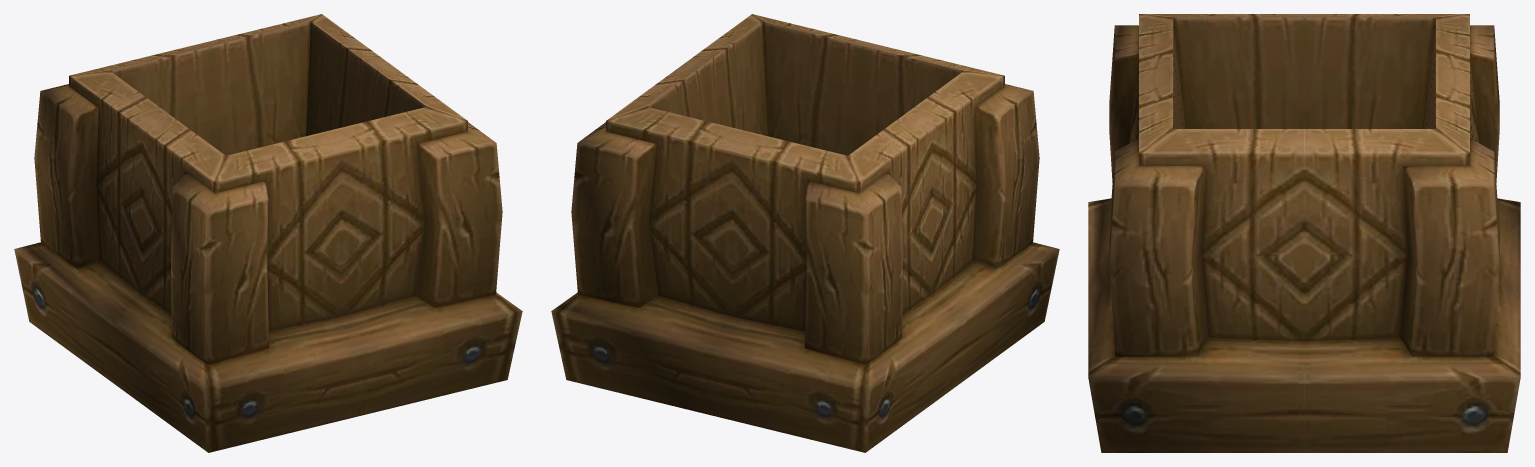
3 views of the same model, side by side, from view 1: azimuth 30°, elevation 25°; view 2: azimuth 150°, elevation 25°; view 3: azimuth 270°, elevation 25° (orthographic). The views are drawn at different scales.
Bounding box in the file's own units: 1.03 × 0.8094 × 1.07.
Materials: 1 (1 with a texture image).
